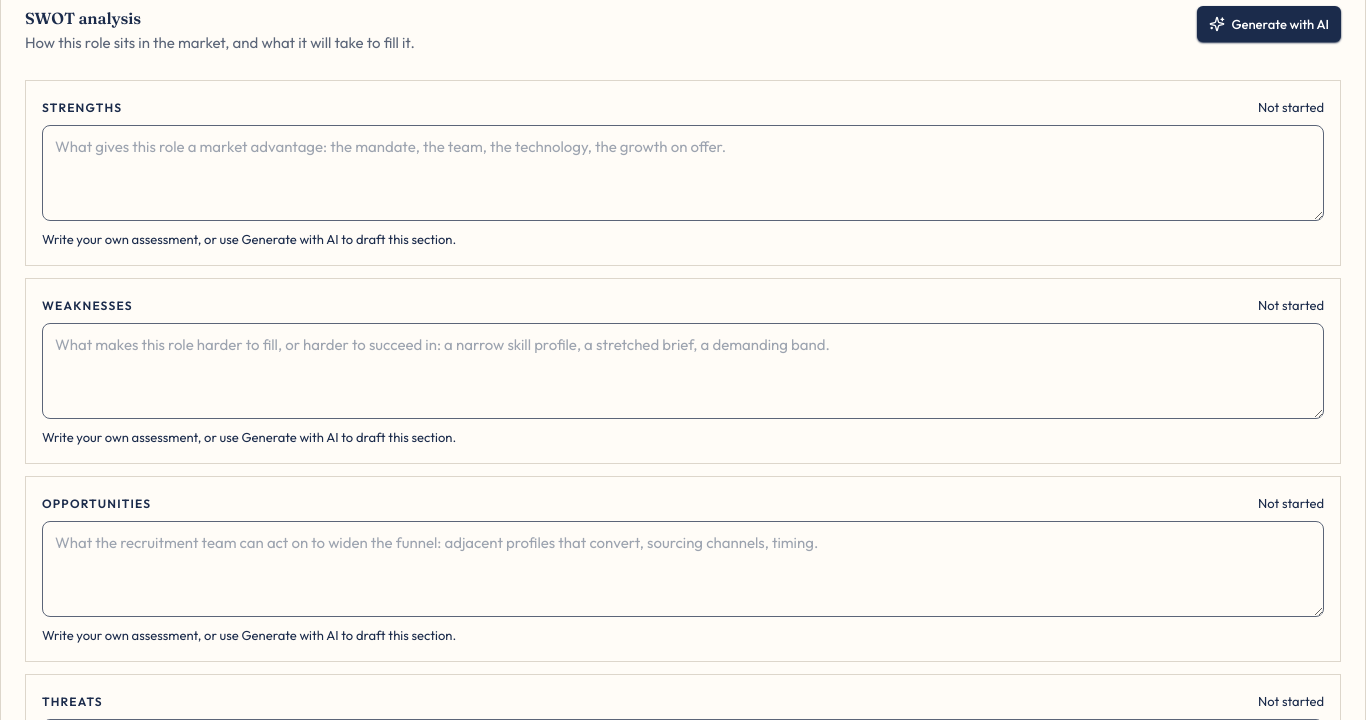
a user who may edit this job's SWOT › renders each empty section as an open field with its own placeholder and hint
The image size is (1366, 720).
Check: the text box with placeholder "harder to fill" is shown, box [42,323,1324,419]
Check: the text box with placeholder "widen the funnel" is shown, box [42,521,1324,617]
Replace the text in the text box named "Strengths" with "A strong internal referral pipeline." at [683, 173], box [42,125,1324,221]
(page scrolled)
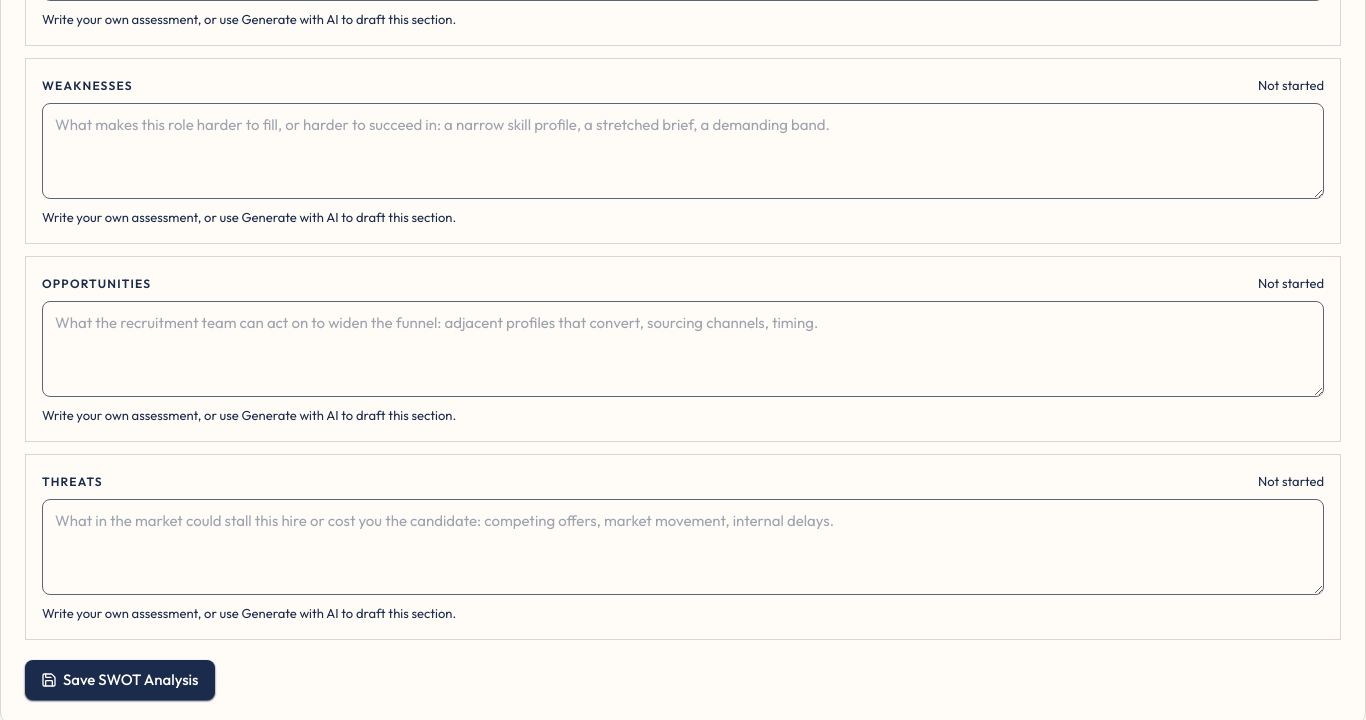
Check: the button "Save SWOT Analysis" is enabled, box [25,660,215,700]
